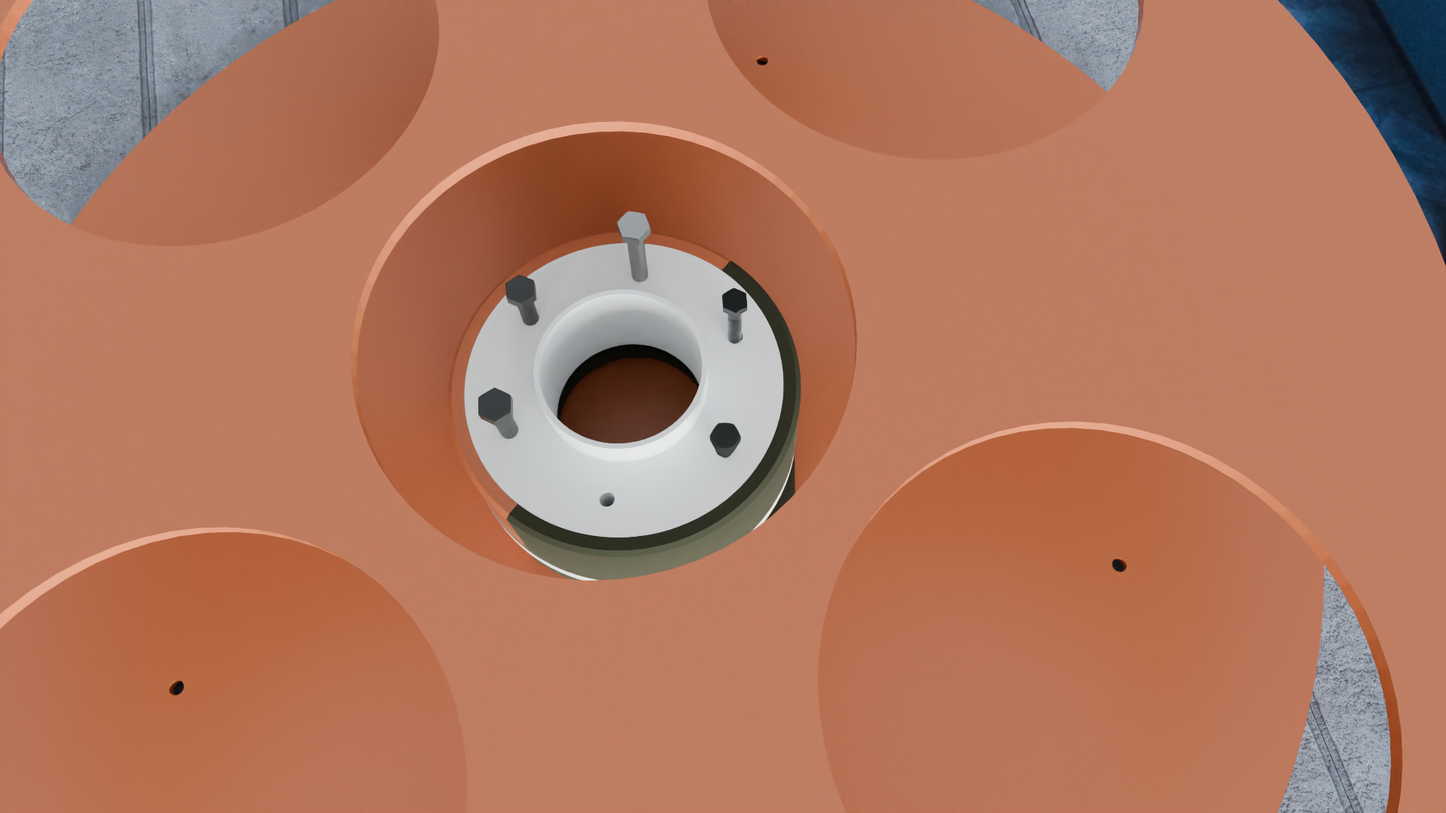bolt: (478, 388, 511, 422), (617, 212, 650, 239), (505, 275, 535, 303), (710, 422, 741, 449), (722, 288, 747, 313)
